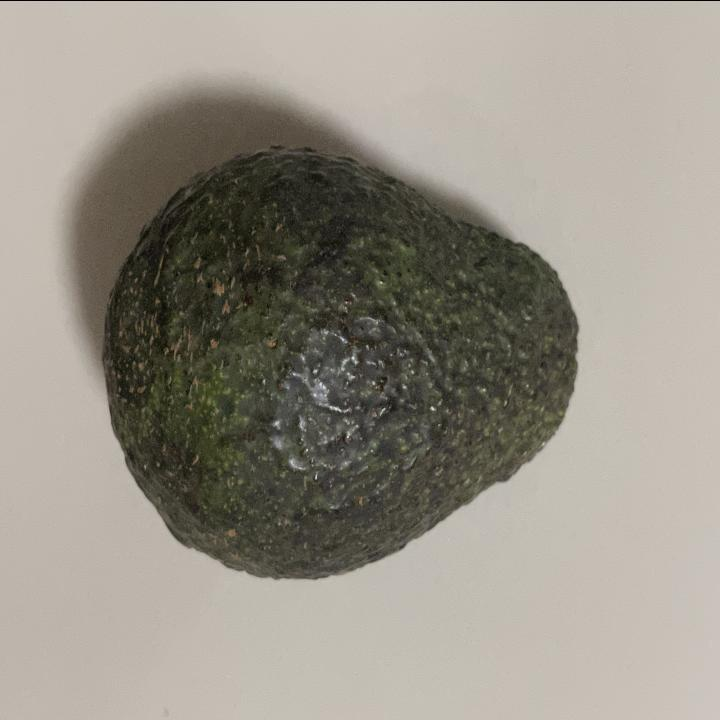Level1: (88, 124, 602, 625)
